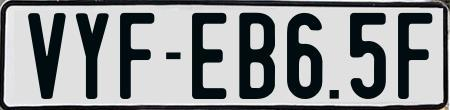5: (347, 13, 383, 104)
6: (285, 12, 320, 98)
B: (238, 10, 279, 97)
E: (190, 12, 226, 104)
F: (396, 11, 435, 103), (120, 13, 154, 99)
V: (26, 12, 69, 100)
Y: (73, 11, 109, 100)
